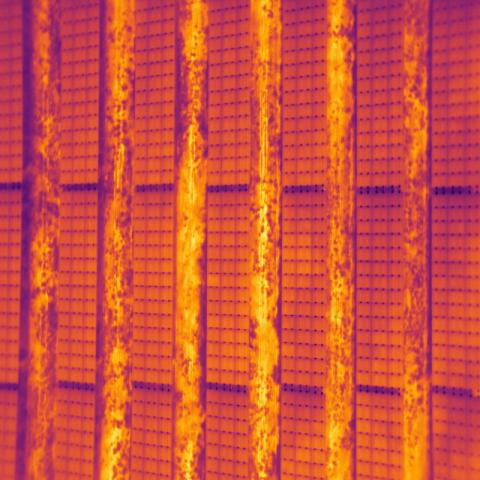fault: (206, 273, 221, 290)
